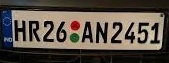numberplate: (1, 5, 164, 52)
